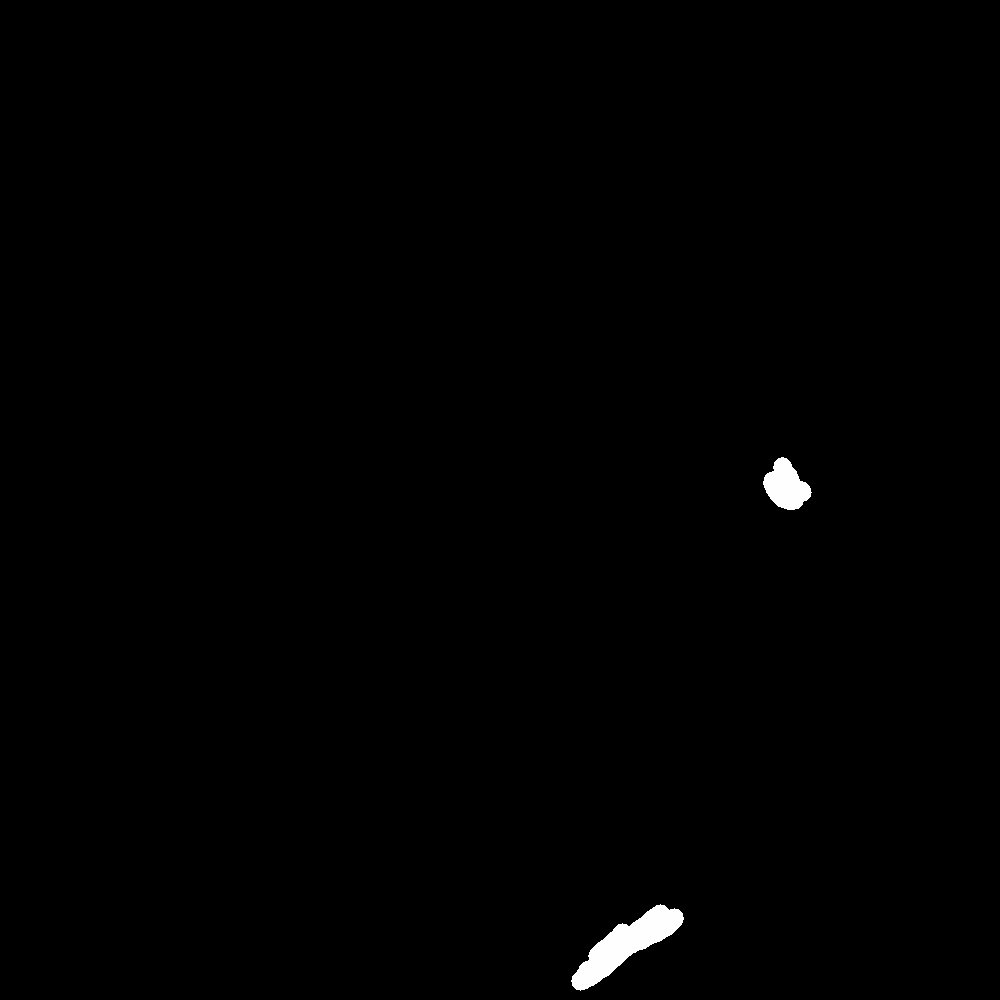illegal: (573, 857, 718, 985)
